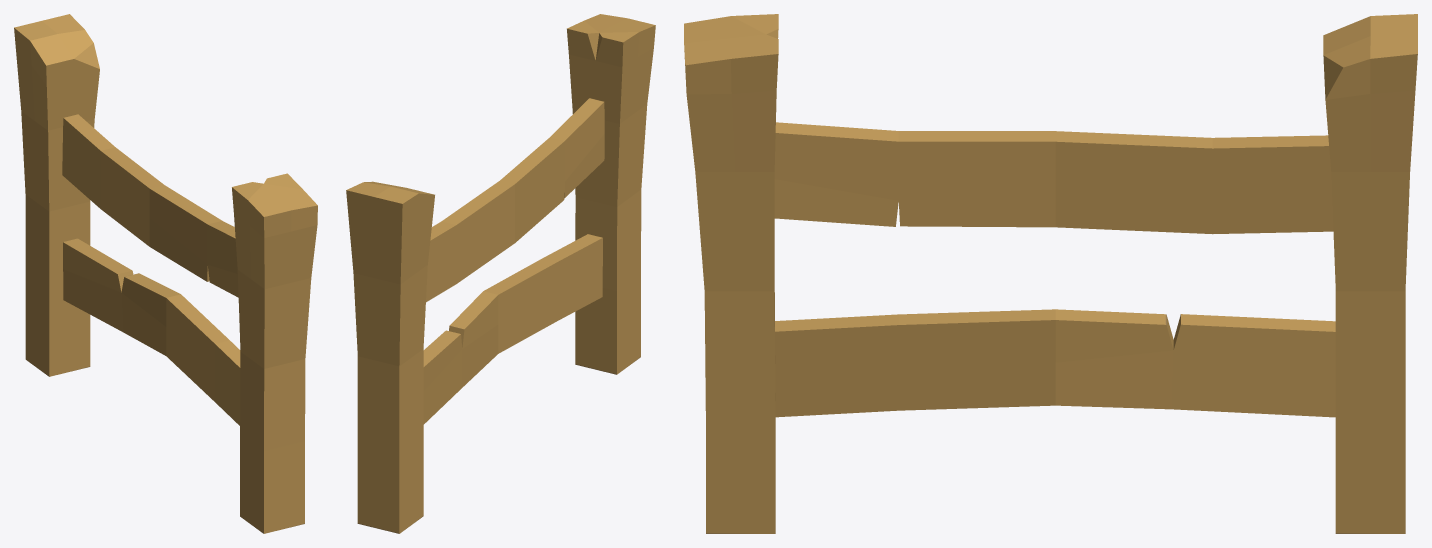
Rendered from Fence_02.fbx.
3 renders of one model, left to right at view 1: azimuth 30°, elevation 25°; view 2: azimuth 150°, elevation 25°; view 3: azimuth 270°, elevation 25°, orthographic. The views are drawn at different scales.
Visible parts, largest first — view 1: Cube.019; view 2: Cube.019; view 3: Cube.019.
Part boxes in pixels (bbox=[...]): Cube.019: bbox=[14, 14, 317, 533]; Cube.019: bbox=[346, 14, 655, 533]; Cube.019: bbox=[684, 14, 1417, 533].
Size of the model in its own units: 15 by 85 by 116.
Materials: 1 (1 with a texture image).
